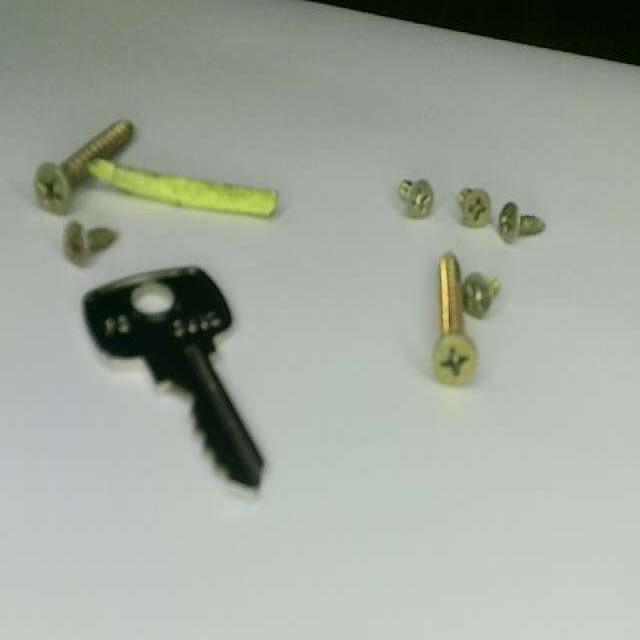Parafuso: (34, 121, 132, 213), (434, 255, 476, 385), (64, 224, 117, 267), (498, 203, 544, 244), (463, 275, 499, 319), (458, 189, 491, 228), (399, 183, 432, 219)
